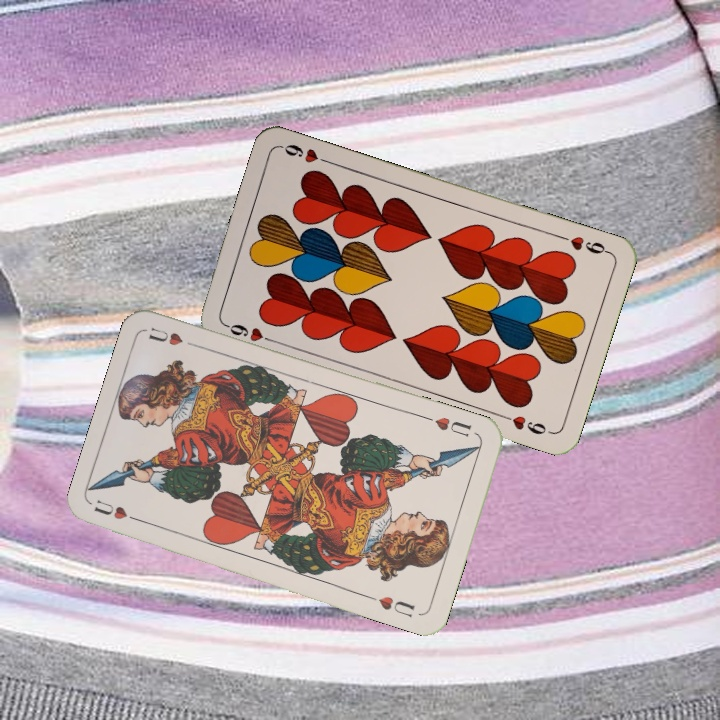H9: (221, 319, 279, 346), (554, 231, 612, 257)
HU: (89, 495, 147, 526), (431, 412, 475, 440)
